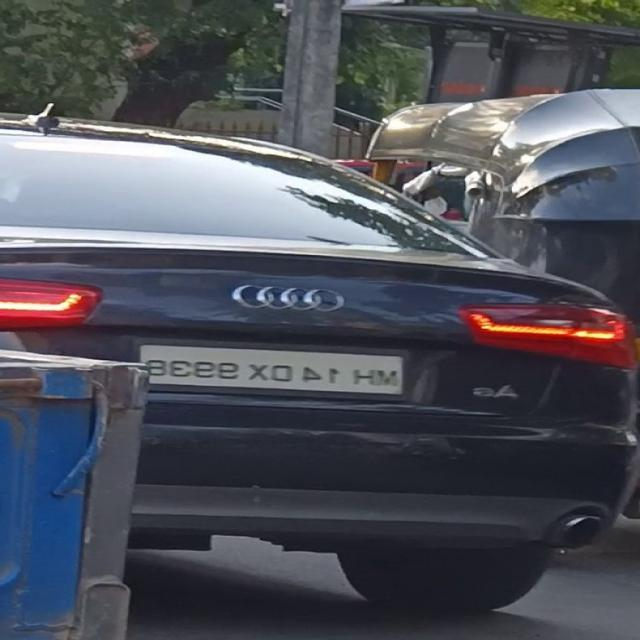license_plate: (111, 334, 418, 413)
